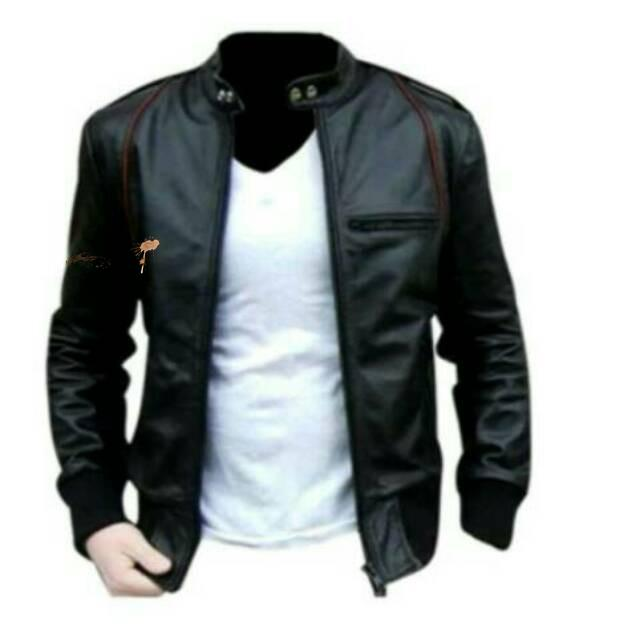stain: (129, 231, 165, 274), (62, 247, 116, 271)
